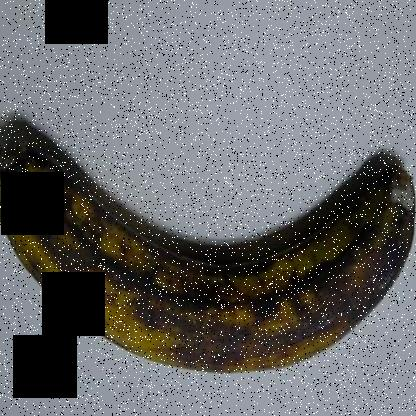overripe: (1, 75, 415, 415)
